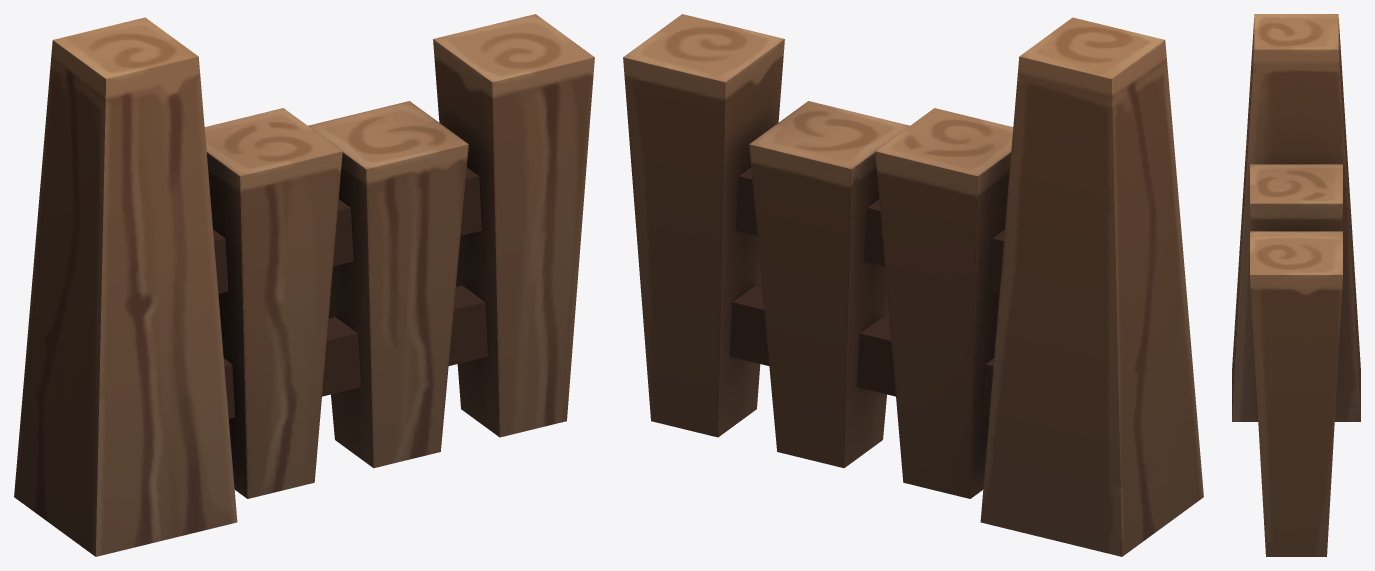
Rendered from fence_tile_03.fbx.
3 renders of one model, left to right at view 1: azimuth 30°, elevation 25°; view 2: azimuth 150°, elevation 25°; view 3: azimuth 270°, elevation 25°, orthographic. The views are drawn at different scales.
Parts seen in each view (by area): view 1: fence_tile_03; view 2: fence_tile_03; view 3: fence_tile_03.
Boxes of the visible parts, x1=… form: fence_tile_03: x1=14, y1=14, x2=594, y2=556; fence_tile_03: x1=623, y1=14, x2=1203, y2=556; fence_tile_03: x1=1232, y1=14, x2=1360, y2=556.
Size of the model in its own units: 2.47 by 2.14 by 0.6859.
